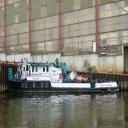tugboat: (8, 60, 121, 98)
